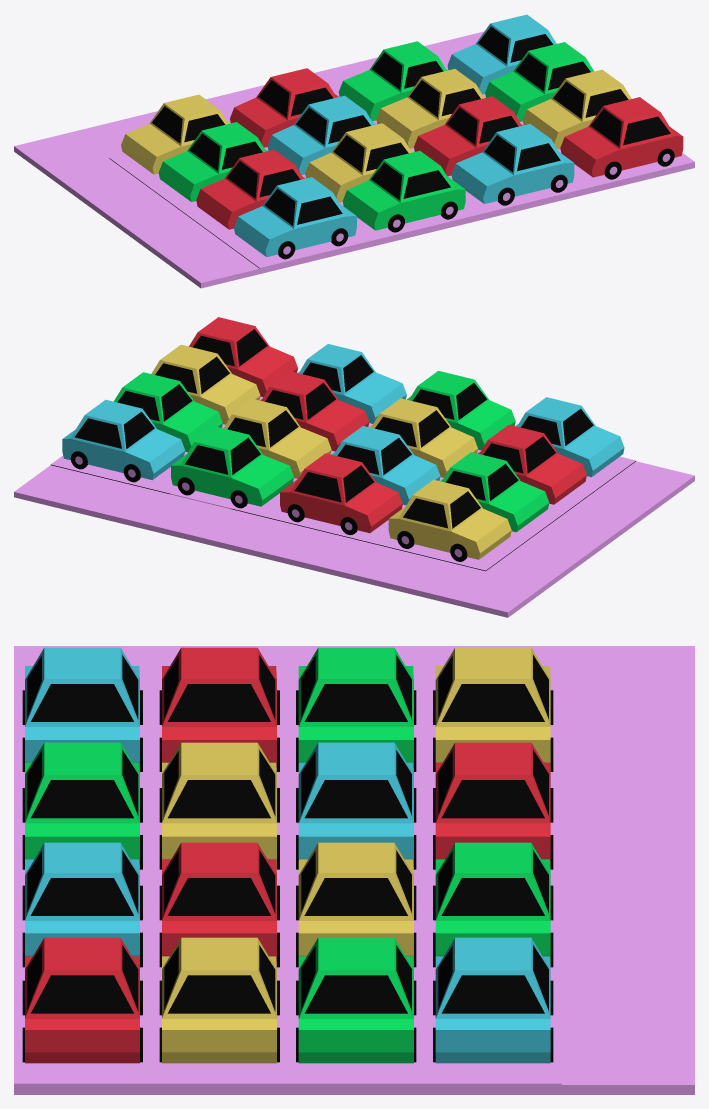
The model's file is car parking.fbx.
The picture shows the model from 3 angles, top to bottom: view 1: azimuth 30°, elevation 25°; view 2: azimuth 150°, elevation 25°; view 3: azimuth 270°, elevation 25°; orthographic projection. The views are drawn at different scales.
Visible parts, largest first — view 1: parking; view 2: parking; view 3: parking.
Boxes of the visible parts, bbox=[...] form: parking: bbox=[14, 14, 694, 288]; parking: bbox=[14, 317, 694, 617]; parking: bbox=[14, 646, 694, 1094].
Size of the model in its own units: 1896 by 205 by 1243.
